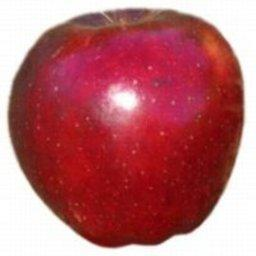apple: (7, 7, 245, 248)
